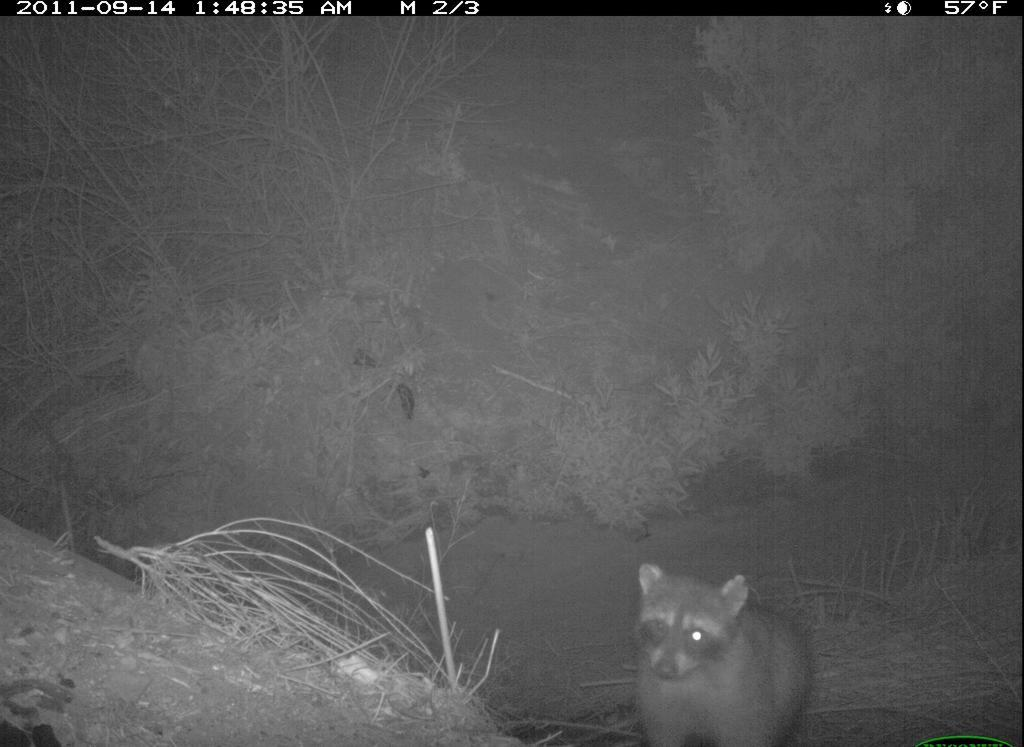raccoon: (625, 555, 817, 745)
